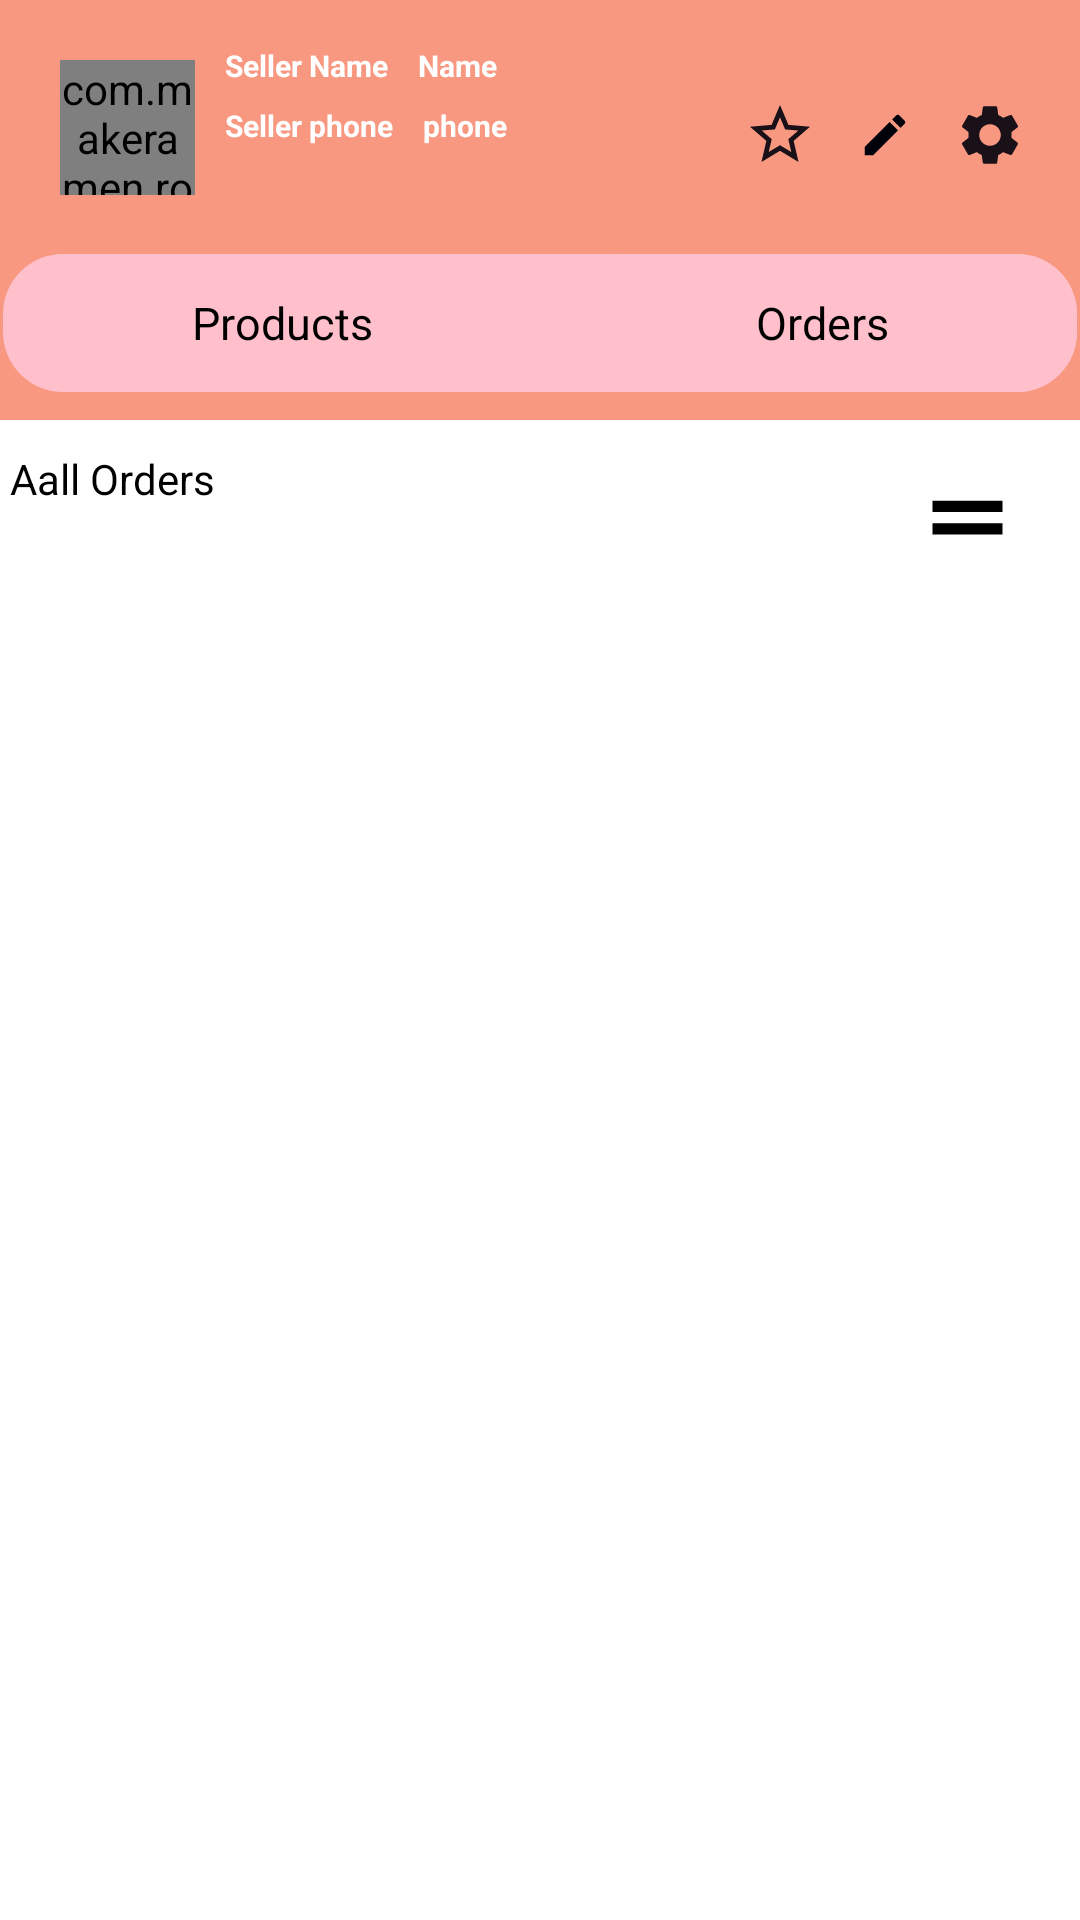

Icon bounding boxes for this 1080 × 1920 phone screenshot, format (x1, y1, x2, y2):
drag handle: (932, 500, 1003, 535)
editprofile: (864, 114, 906, 156)
setings: (962, 106, 1018, 164)
star: (750, 105, 810, 162)
